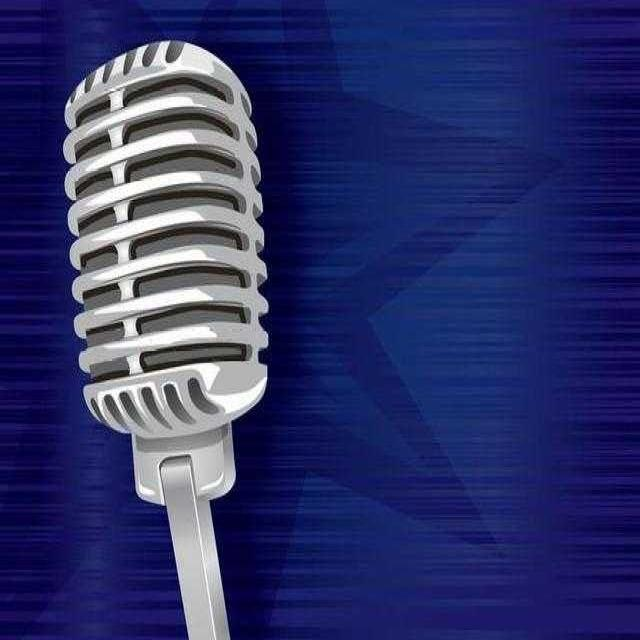microphone: (60, 30, 276, 524)
